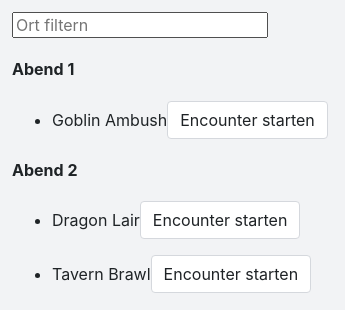
Test: M8-S07 encounter mode › encounter list › filtering by location hides non-matching encounters
Type "forest" into the field labelled "Ort filtern" at (140, 25), box [12,12,268,38]
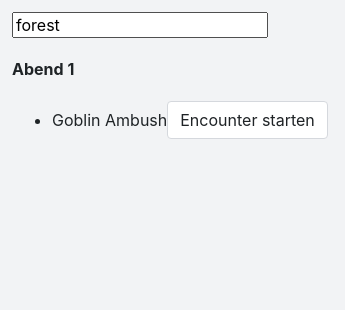
Expected: the text "Goblin Ambush" is shown, [52,110,167,130]
Expected: the text "Dragon Lair" is gone
